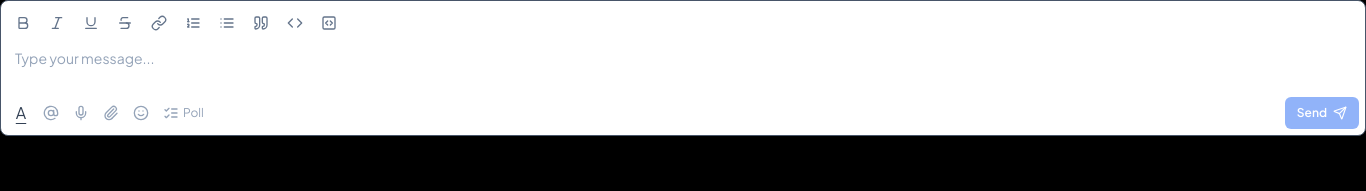
Test: voice message recording › does not turn a failed recording into a successful audio attachment
Click the button named "Record a voice message".
click(81, 113)  # box [67, 99, 95, 127]
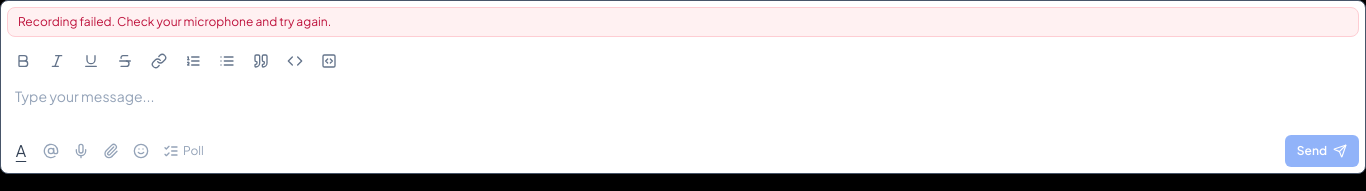
Expected: the message "Recording failed. Check your microphone and try again." is shown, [7, 7, 1359, 37]
